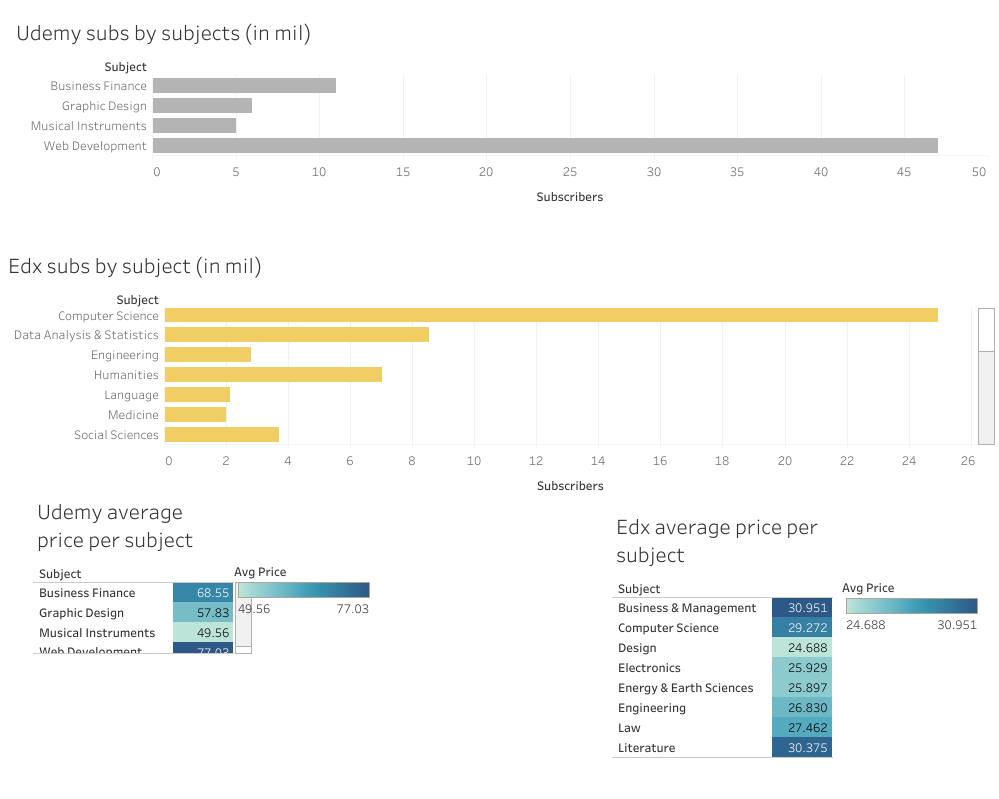

The dashboard page shown, as its layout file describes it:
{"tool":"tableau","page":{"name":"Dashboard 1","canvas":[1000,800],"ordinal":0},"visuals":[{"type":"worksheet","title":"Sheet 2","mark":"Automatic","rows":["subject"],"cols":["subscribers"],"box":[8,8,984,784]},{"type":"worksheet","title":"Sheet 1","mark":"Automatic","rows":["subject"],"cols":["subscribers"],"box":[4,245,991,256]},{"type":"worksheet","title":"Sheet 3","mark":"Square","rows":["subject"],"box":[33,491,236,191]},{"type":"worksheet","title":"Sheet 4","mark":"Square","rows":["subject"],"box":[612,506,367,286]},{"type":"legend","title":"Sheet 3","param":"[federated.0gguexy1gqkjru18ppkl01j4tye9].[sum:avg_price:qk]","box":[234,558,140,80]},{"type":"legend","title":"Sheet 4","param":"[federated.0ptr1k60sr4qhu1cwk7441r6h0xz].[sum:avg_price:qk]","box":[842,574,140,80]}]}

Visuals, with their boxes in screenshot pixels (x1, y1, x2, y2), scaled from the page's 1000x800 canvas onto the 999x799 screenshot:
"Sheet 2" worksheet: 8, 8, 991, 791
"Sheet 1" worksheet: 4, 245, 994, 500
"Sheet 3" worksheet (Square marks): 33, 490, 269, 681
"Sheet 4" worksheet (Square marks): 611, 505, 978, 791
"Sheet 3" legend: 234, 557, 374, 637
"Sheet 4" legend: 841, 573, 981, 653
